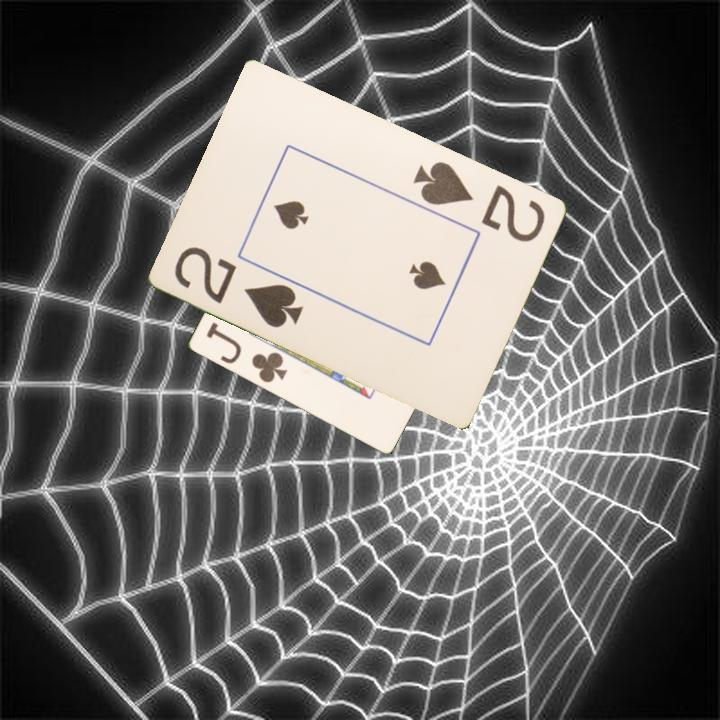2s: (410, 157, 549, 245), (171, 242, 308, 331)
Jc: (202, 319, 290, 386)
